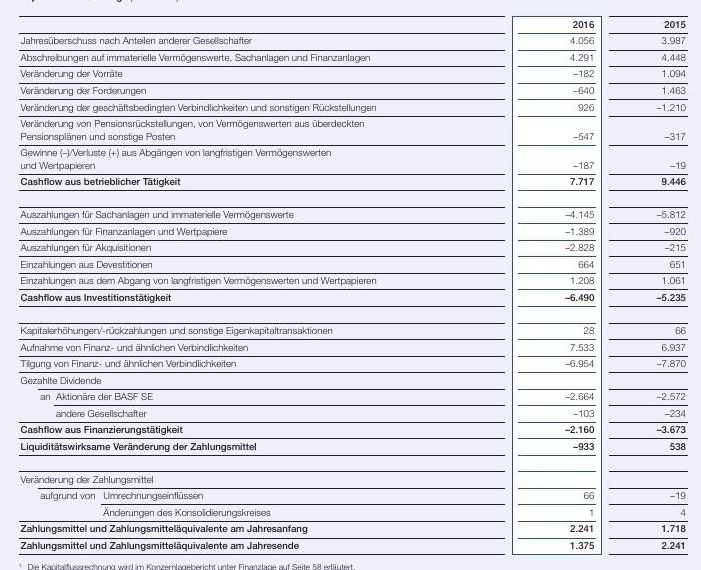table: (0, 0, 701, 570)
